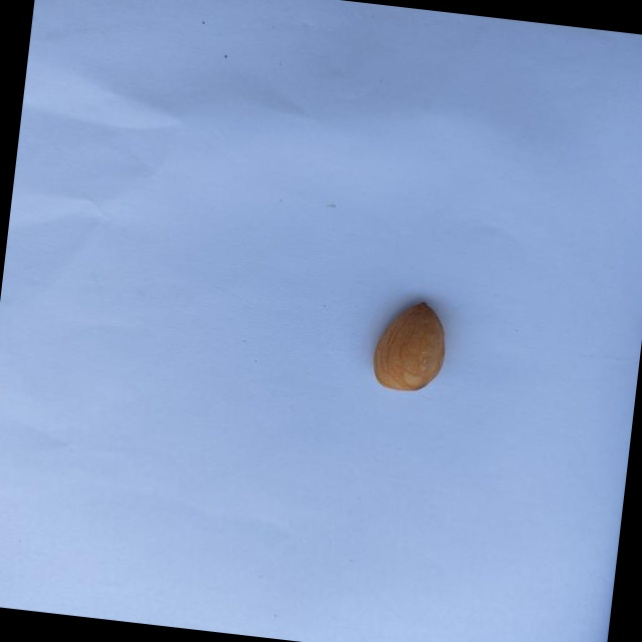grade2: (363, 294, 454, 399)
